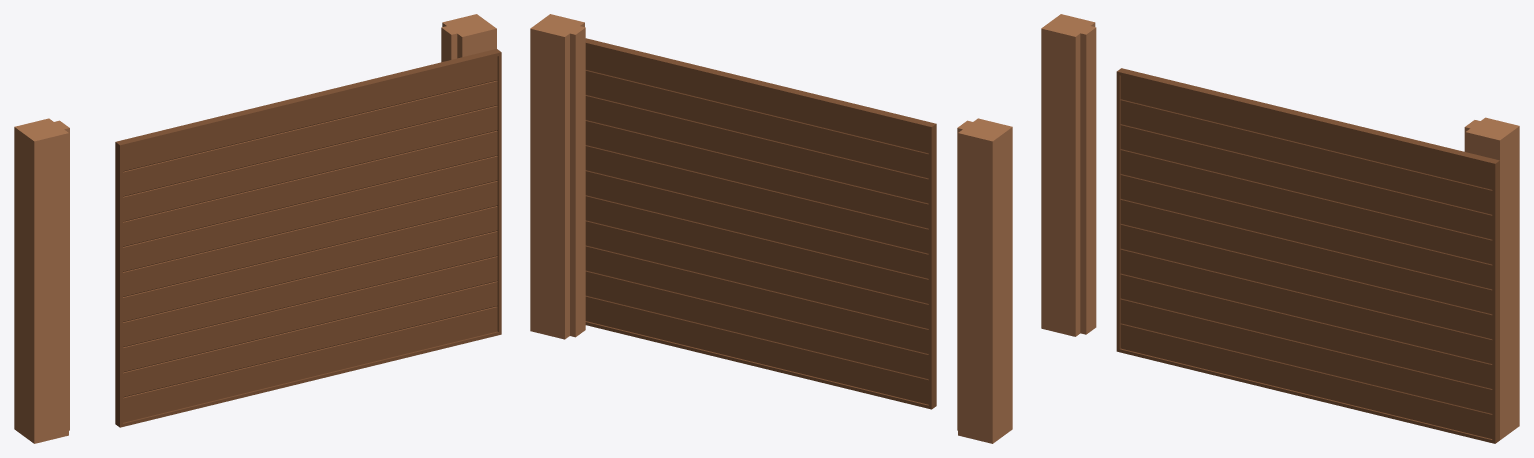
Rendered from SM_fence_04_D.glb.
3 views of the same model, side by side, from view 1: azimuth 30°, elevation 25°; view 2: azimuth 150°, elevation 25°; view 3: azimuth 330°, elevation 25° (orthographic).
Parts seen in each view (by area): view 1: fence_04_D_Door_01, SM_fence_04_D; view 2: fence_04_D_Door_01, SM_fence_04_D; view 3: fence_04_D_Door_01, SM_fence_04_D.
Boxes of the visible parts, left/top/right/bottom form: fence_04_D_Door_01: left=115, top=49, right=501, bottom=427; SM_fence_04_D: left=14, top=14, right=496, bottom=443; fence_04_D_Door_01: left=585, top=38, right=936, bottom=409; SM_fence_04_D: left=530, top=14, right=1012, bottom=443; fence_04_D_Door_01: left=1116, top=68, right=1499, bottom=443; SM_fence_04_D: left=1041, top=14, right=1519, bottom=439.
Bounding box in the file's own units: 4 × 2.5 × 0.3709.
Materials: 1 (1 with a texture image).
